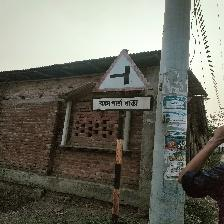Side-road-left: (91, 49, 153, 114)
